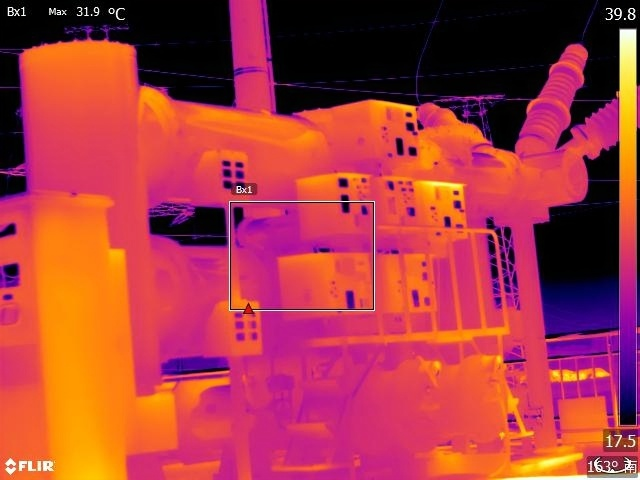tube: (511, 35, 595, 149), (569, 77, 640, 155)
